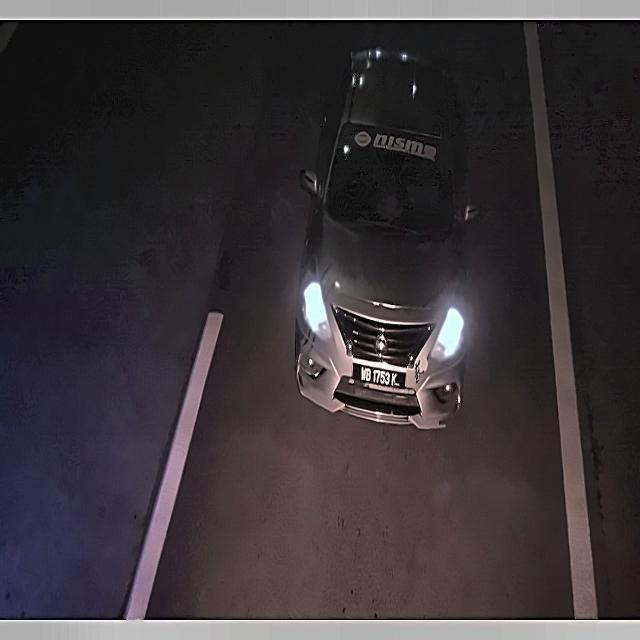car: (346, 356, 413, 401)
